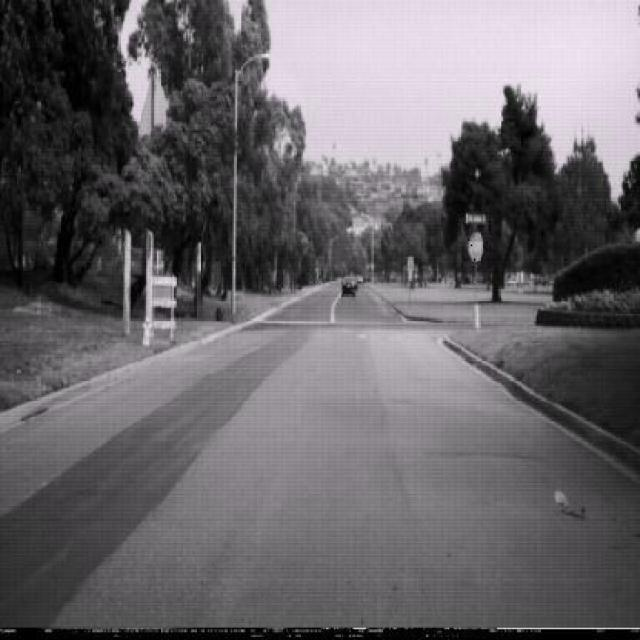stop: (468, 232, 483, 264)
